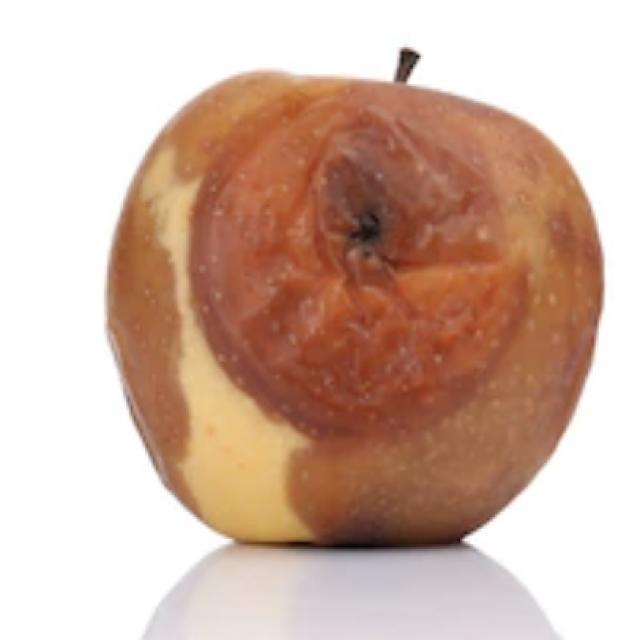Rotten: (100, 55, 603, 553)
